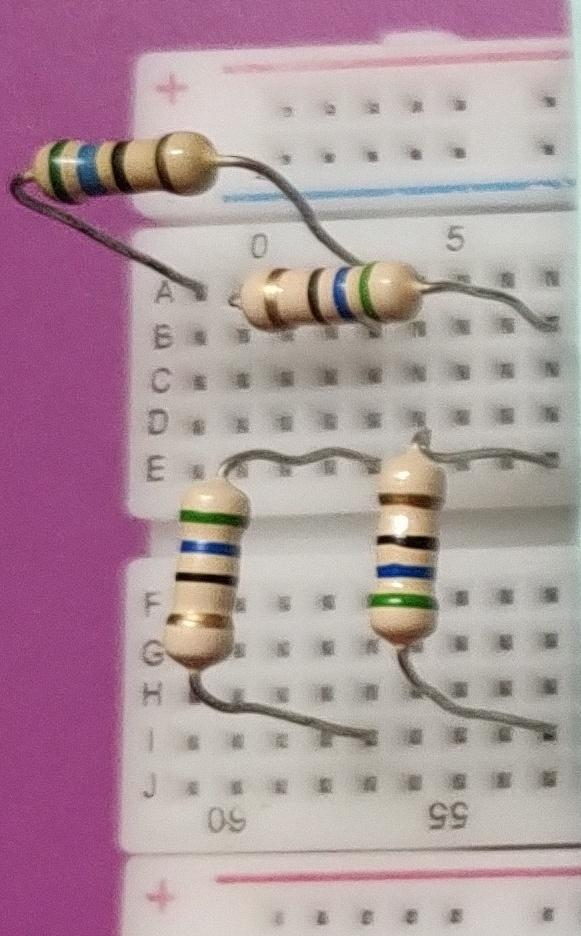resistor: (155, 471, 247, 693), (365, 447, 447, 657), (233, 253, 440, 331), (23, 129, 237, 203)
